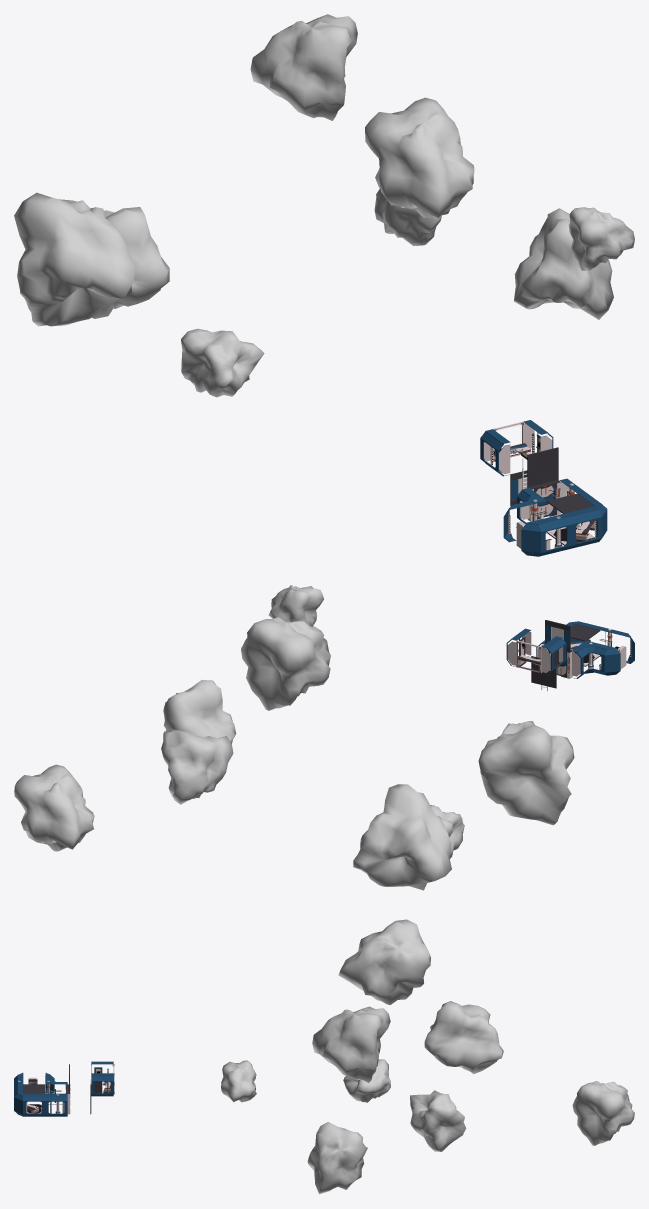
3 renders of one model, top to bottom at view 1: azimuth 30°, elevation 25°; view 2: azimuth 150°, elevation 25°; view 3: azimuth 270°, elevation 25°, orthographic. The views are drawn at different scales.
Visible parts, largest first — view 1: Space Waste Small (2), Space Waste Small (7), Space Waste Small (5), Space Waste Small (6), Space Waste Small, Space Waste Small (3), Space Waste Small (4), Space Waste Small (1), window_big_plug (×2), floor_4; view 2: Space Waste Small (2), Space Waste Small (3), Space Waste Small (7), Space Waste Small (5), Space Waste Small (1), Space Waste Small (6), Space Waste Small (4), floor_4 (×2), Space Waste Small, window_big_corner_plug; view 3: Space Waste Small (2), Space Waste Small (3), Space Waste Small (7), Space Waste Small (6), Space Waste Small (5), Space Waste Small (1), Space Waste Small (4), Space Waste Small.
Boxes of the visible parts, x1,y1,x2,y2 form: Space Waste Small (2): (14, 192, 136, 326); Space Waste Small (7): (365, 97, 474, 217); Space Waste Small (5): (250, 14, 357, 120); Space Waste Small (6): (514, 208, 613, 319); Space Waste Small: (181, 328, 264, 397); Space Waste Small (3): (91, 207, 169, 318); Space Waste Small (4): (568, 207, 634, 270); Space Waste Small (1): (374, 188, 449, 246); window_big_plug (×2): (534, 506, 602, 556); floor_4: (527, 447, 558, 487); Space Waste Small (2): (478, 721, 574, 825); Space Waste Small (3): (353, 784, 451, 890); Space Waste Small (7): (241, 617, 330, 710); Space Waste Small (5): (14, 764, 94, 851); Space Waste Small (1): (161, 729, 233, 804); Space Waste Small (6): (163, 680, 236, 743); Space Waste Small (4): (268, 585, 323, 626); floor_4 (×2): (531, 620, 570, 688); Space Waste Small: (430, 805, 464, 859); window_big_corner_plug: (571, 640, 610, 678); Space Waste Small (2): (338, 919, 430, 1004); Space Waste Small (3): (424, 1001, 503, 1074); Space Waste Small (7): (312, 1006, 390, 1082); Space Waste Small (6): (307, 1122, 367, 1194); Space Waste Small (5): (572, 1081, 634, 1145); Space Waste Small (1): (410, 1090, 466, 1151); Space Waste Small (4): (221, 1060, 256, 1102); Space Waste Small: (343, 1059, 390, 1102).
Size of what is drawn, in the model's own units: 42.46 by 17.78 by 66.75.
